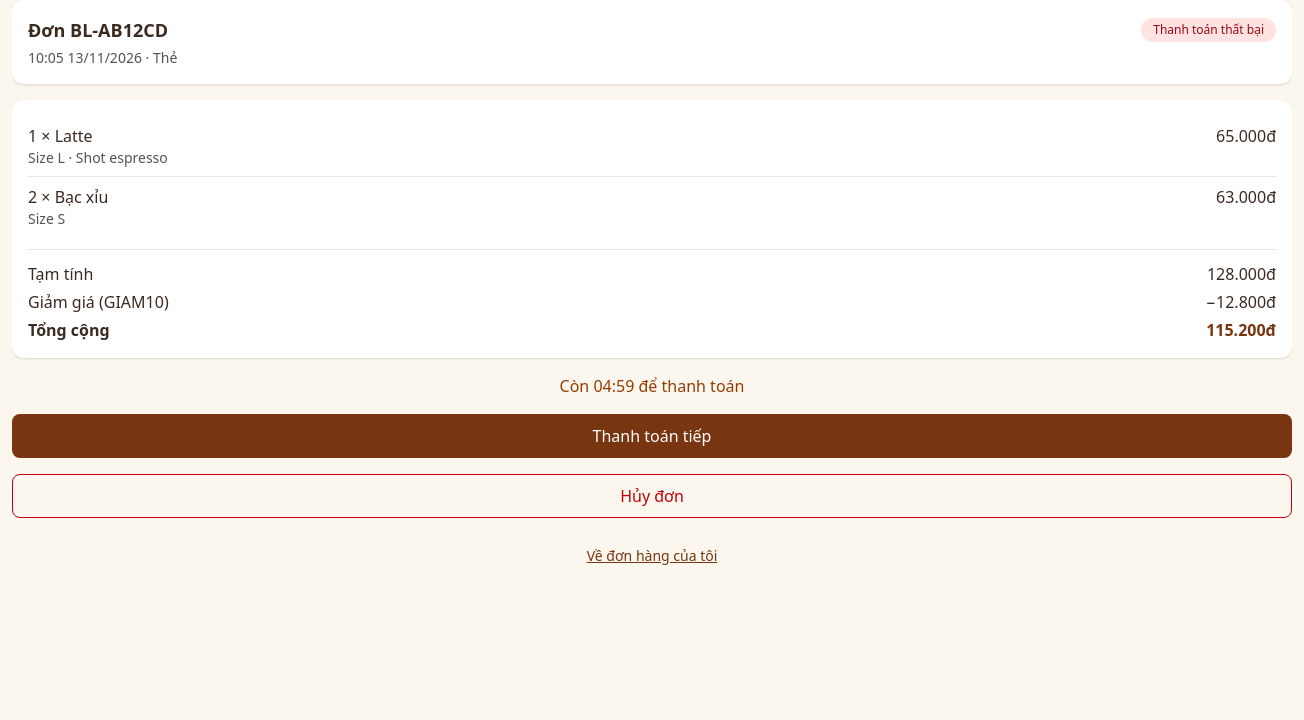
Scenario: Trang chi tiết đơn (CT-79 – CT-81) › CT-80: đơn chờ thanh toán có đồng hồ đếm ngược; Thanh toán tiếp gọi POST /payments với Idempotency-Key mới rồi chuyển sang VNPay; lỗi thì báo; hết giờ thì tải l
Later steps or results of the test are not shown.
Expected: the text "Còn 04:59 để thanh toán" is shown, [560,375,744,397]
Click the button "Thanh toán tiếp" at (652, 436), box [12,414,1292,458]
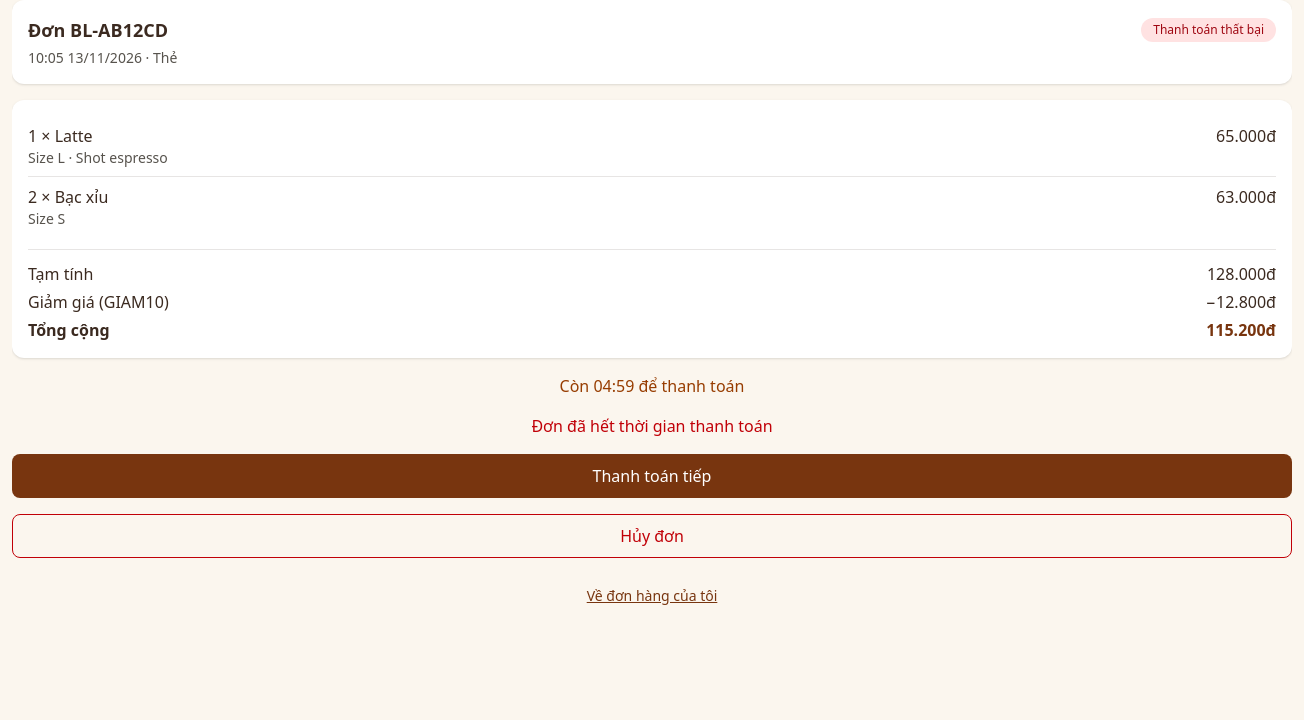
Result: the message reads "Đơn đã hết thời gian thanh toán" at [531,415,772,437]
